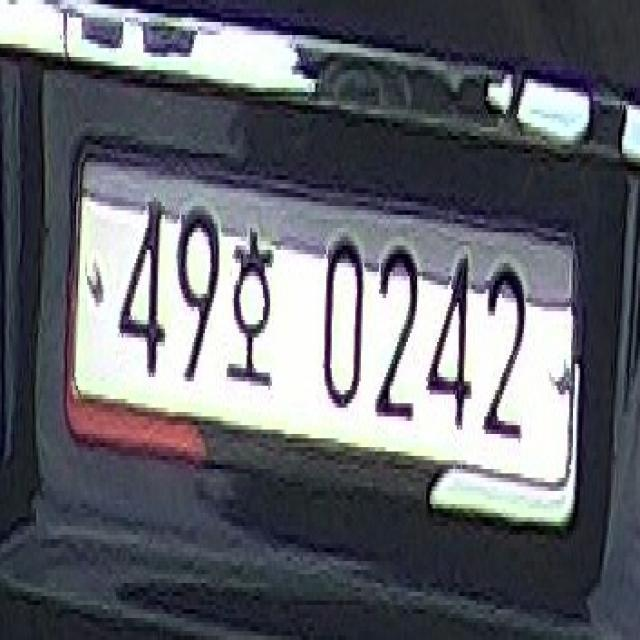0: (324, 206, 371, 424)
2: (368, 228, 418, 440), (481, 252, 529, 454)
4: (120, 192, 170, 385), (424, 243, 474, 430)
9: (172, 184, 222, 399)
ho: (226, 225, 276, 404)
license_plate: (61, 119, 604, 568)
